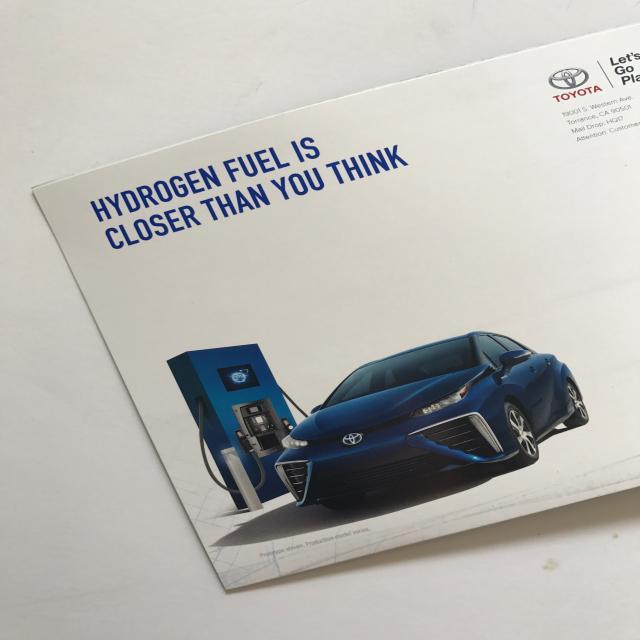paper: (32, 23, 640, 594)
